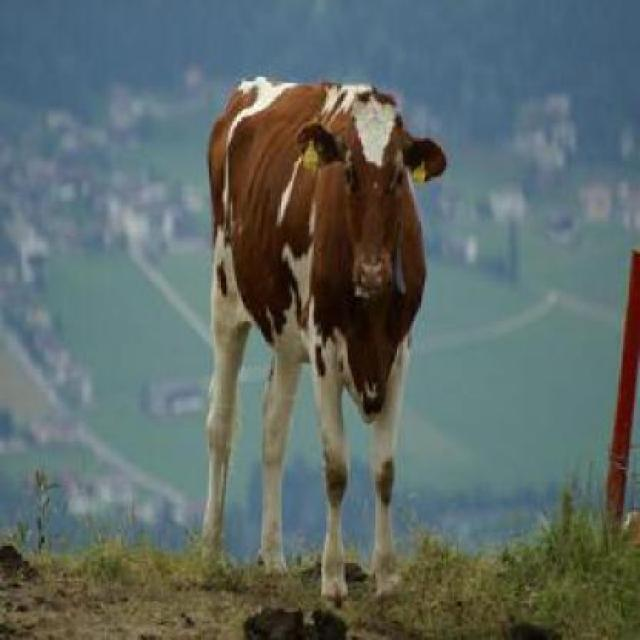Cow: (197, 66, 455, 619)
